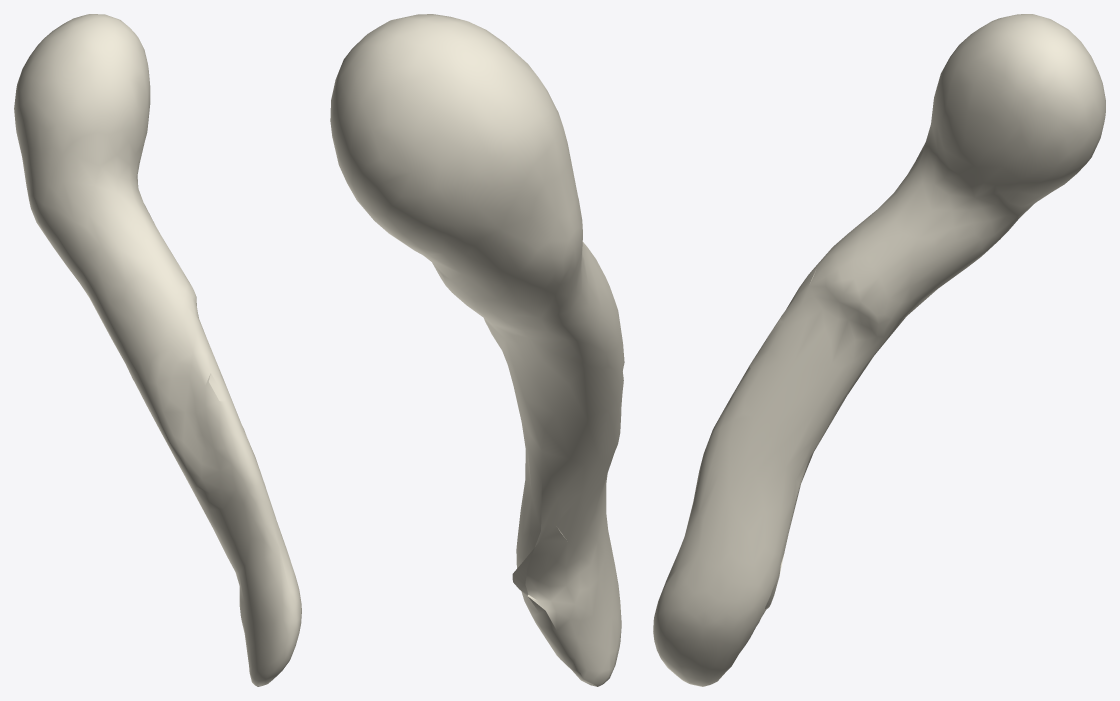
Rendered from fma55117_mm1178m.glb.
The picture shows the model from 3 angles, left to right: view 1: azimuth 30°, elevation 25°; view 2: azimuth 150°, elevation 25°; view 3: azimuth 270°, elevation 25°; orthographic projection. The views are drawn at different scales.
Visible parts, largest first — view 1: FMA55117_MM1178M; view 2: FMA55117_MM1178M; view 3: FMA55117_MM1178M.
Part boxes in pixels (left/top/right/bottom): FMA55117_MM1178M: left=14, top=14, right=301, bottom=686; FMA55117_MM1178M: left=330, top=14, right=624, bottom=686; FMA55117_MM1178M: left=653, top=14, right=1105, bottom=686.
Bounding box in the file's own units: 0.00196 × 0.00739 × 0.00464.
